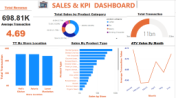

This screenshot's page, from the dashboard's own definition file:
{"tool":"powerbi","page":{"name":"Page 1","canvas":[1280,720],"ordinal":0},"visuals":[{"type":"card","fields":{"Values":["coffee-shop-sales-revenue.Total Sales"]},"box":[28.8,148.2,253.9,152.3],"z":0},{"type":"image","box":[28.8,0,282.7,148.2],"z":1000},{"type":"columnChart","title":"      Total Transactions by store_location","fields":{"Y":["coffee-shop-sales-revenue.Total Transactions"],"Category":["coffee-shop-sales-revenue.store_location"]},"box":[295.3,0,559.1,300.8],"z":1001},{"type":"barChart","fields":{"Category":["coffee-shop-sales-revenue.product_type"],"Y":["coffee-shop-sales-revenue.Sales by Store"]},"box":[16.5,335.2,502.8,384.6],"z":1002},{"type":"gauge","title":"Total Transaction","fields":{"Y":["Sum(coffee-shop-sales-revenue.transaction_id)"]},"box":[917.6,0,362.7,223.9],"z":1003},{"type":"lineChart","fields":{"Y":["coffee-shop-sales-revenue.Average Transaction Value"],"Category":["coffee-shop-sales-revenue.transaction_date.Variation.Date Hierarchy.Month"]},"box":[519.3,335.2,398.4,384.6],"z":1004},{"type":"donutChart","title":"Total Sales by Product Category","fields":{"Category":["coffee-shop-sales-revenue.product_category"],"Y":["coffee-shop-sales-revenue.Total Sales"]},"box":[917.6,223.9,362.7,495.9],"z":1005}]}

Visuals, with their boxes in screenshot pixels (x1, y1, x2, y2), scaled from the page's 1280x720 canvas onto the 176x98 screenshot:
card - coffee-shop-sales-revenue.Total Sales: [4,20,39,41]
image: [4,0,43,20]
"      Total Transactions by store_location" columnChart: [41,0,117,41]
barChart - coffee-shop-sales-revenue.product_type x coffee-shop-sales-revenue.Sales by Store: [2,46,71,97]
"Total Transaction" gauge: [126,0,175,30]
lineChart - coffee-shop-sales-revenue.Average Transaction Value x coffee-shop-sales-revenue.transaction_date.Variation.Date Hierarchy.Month: [71,46,126,97]
"Total Sales by Product Category" donutChart: [126,30,175,97]
